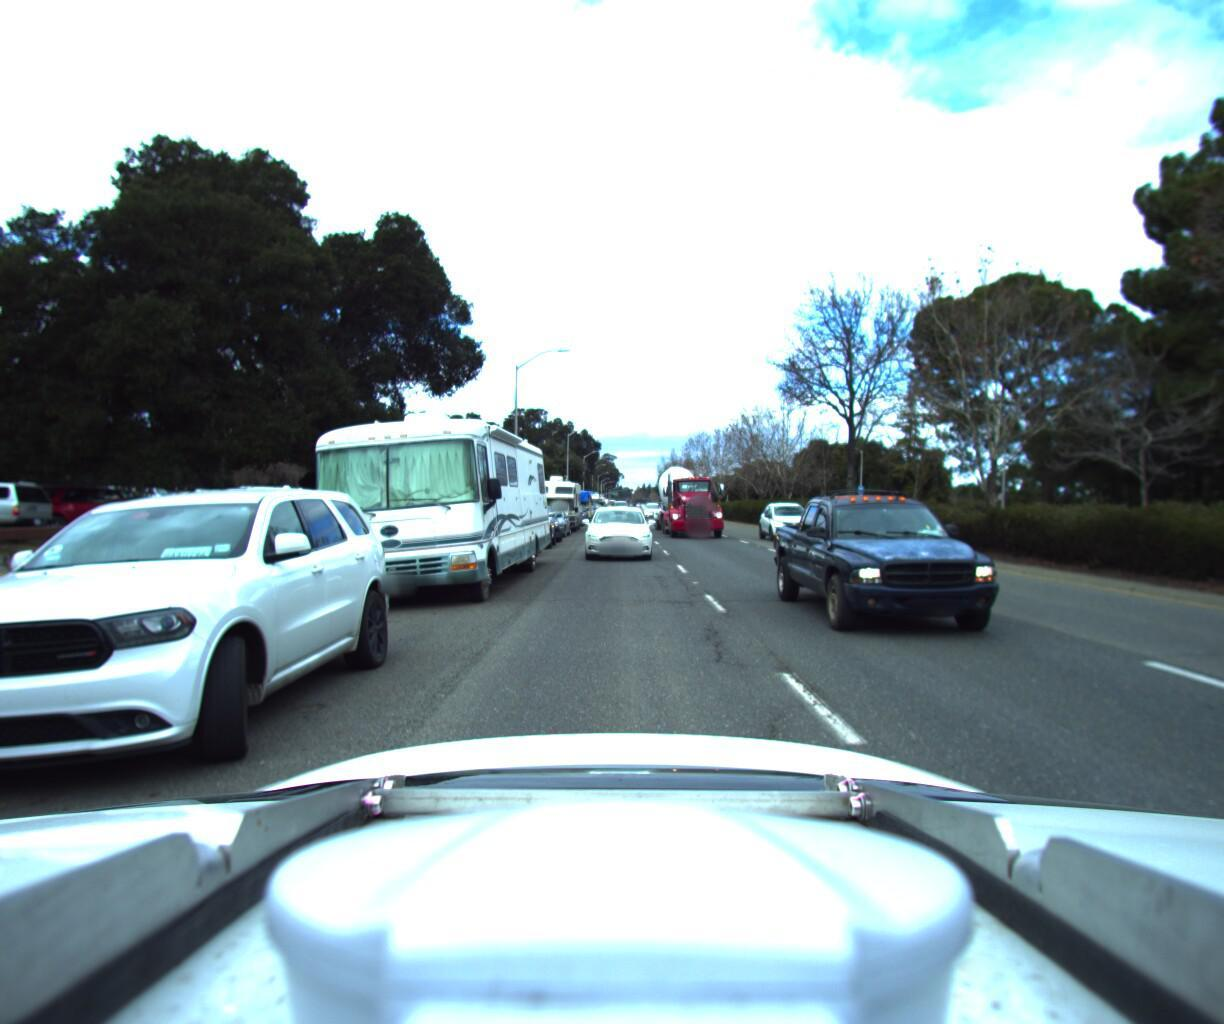car: (772, 469, 1081, 667), (579, 495, 654, 556), (263, 483, 369, 520), (492, 493, 557, 548), (762, 497, 828, 541), (515, 496, 558, 538), (525, 499, 570, 533), (640, 498, 663, 517)
other_vehicle: (281, 375, 552, 620), (523, 465, 580, 526), (560, 482, 591, 515)
truck: (655, 443, 732, 537)
